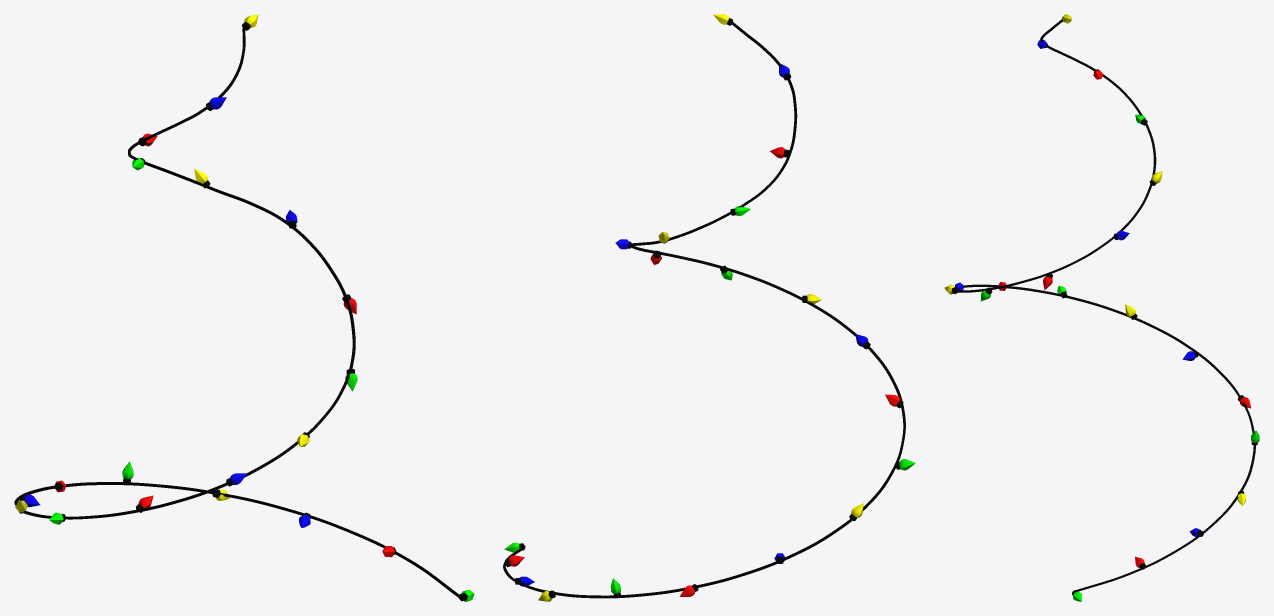
File: Prefab_Xmas_Tree_LightString.glb
3 renders of one model, left to right at view 1: azimuth 30°, elevation 25°; view 2: azimuth 150°, elevation 25°; view 3: azimuth 270°, elevation 25°, orthographic. The views are drawn at different scales.
Parts seen in each view (by area): view 1: Spline_A.001; view 2: Spline_A.001; view 3: Spline_A.001.
Boxes of the visible parts, box(x1,y1,x2,y2) form: Spline_A.001: box(14, 14, 474, 601); Spline_A.001: box(503, 14, 915, 601); Spline_A.001: box(944, 14, 1259, 601).
Bounding box in the file's own units: 1.38 × 1.93 × 1.1.
Materials: 1 (1 with a texture image).
